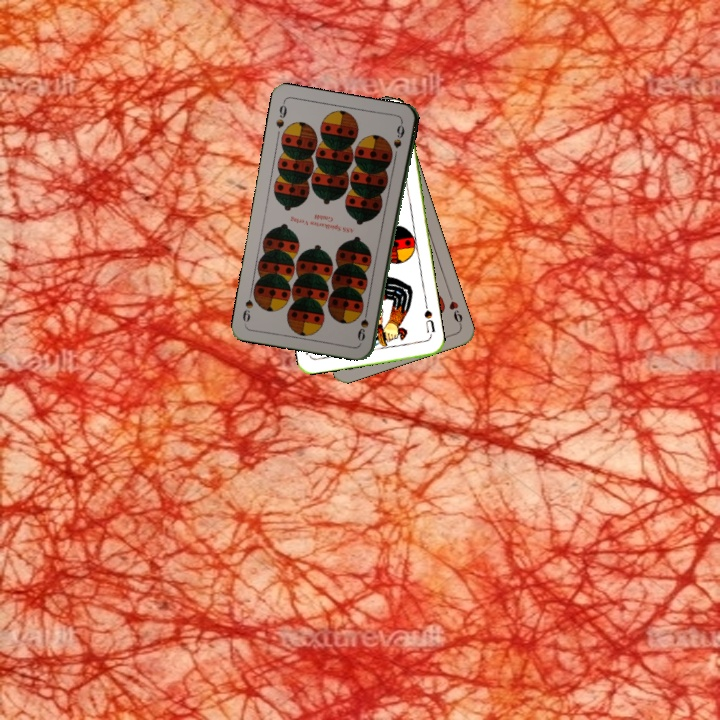H9: (445, 289, 465, 329)
S9: (355, 304, 371, 344), (272, 98, 290, 130)
SU: (420, 299, 438, 335)
